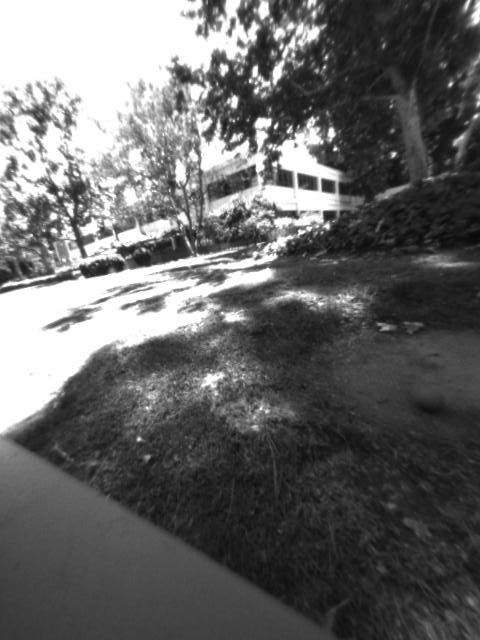dogtoy: (409, 379, 454, 424)
